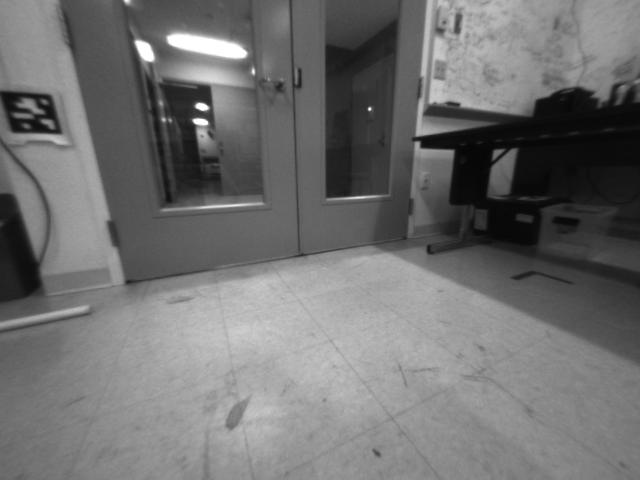door_handle: (255, 73, 290, 94)
